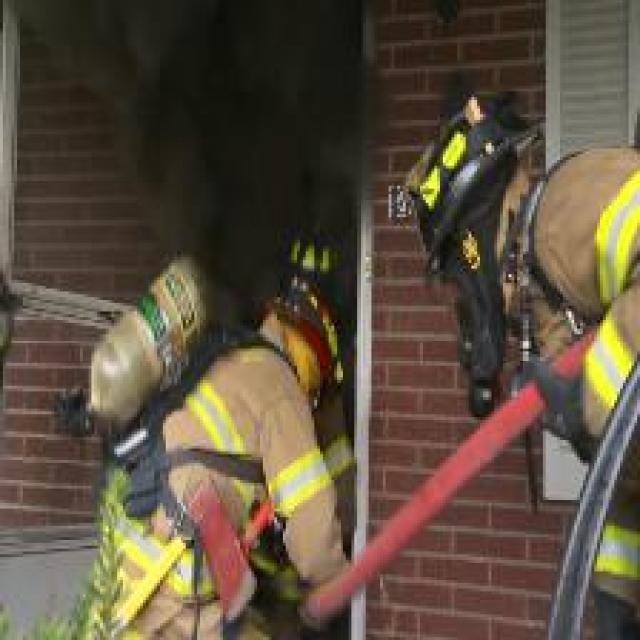other: (351, 392, 531, 529), (266, 286, 337, 395)
